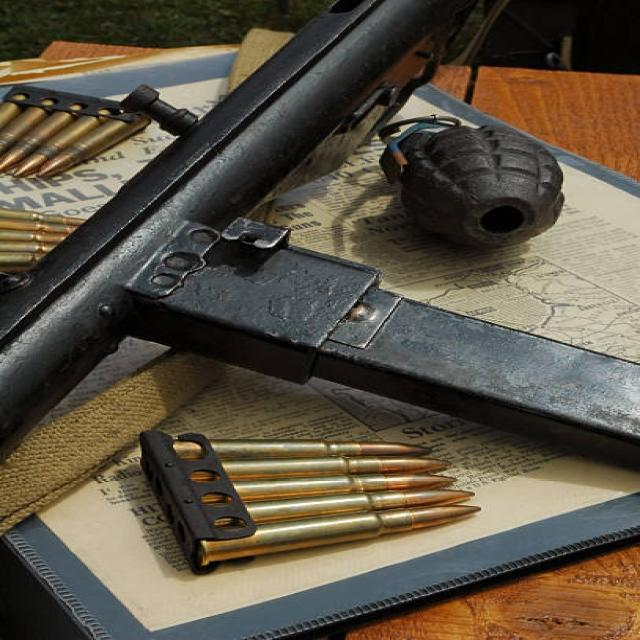grenade: (373, 111, 571, 254)
